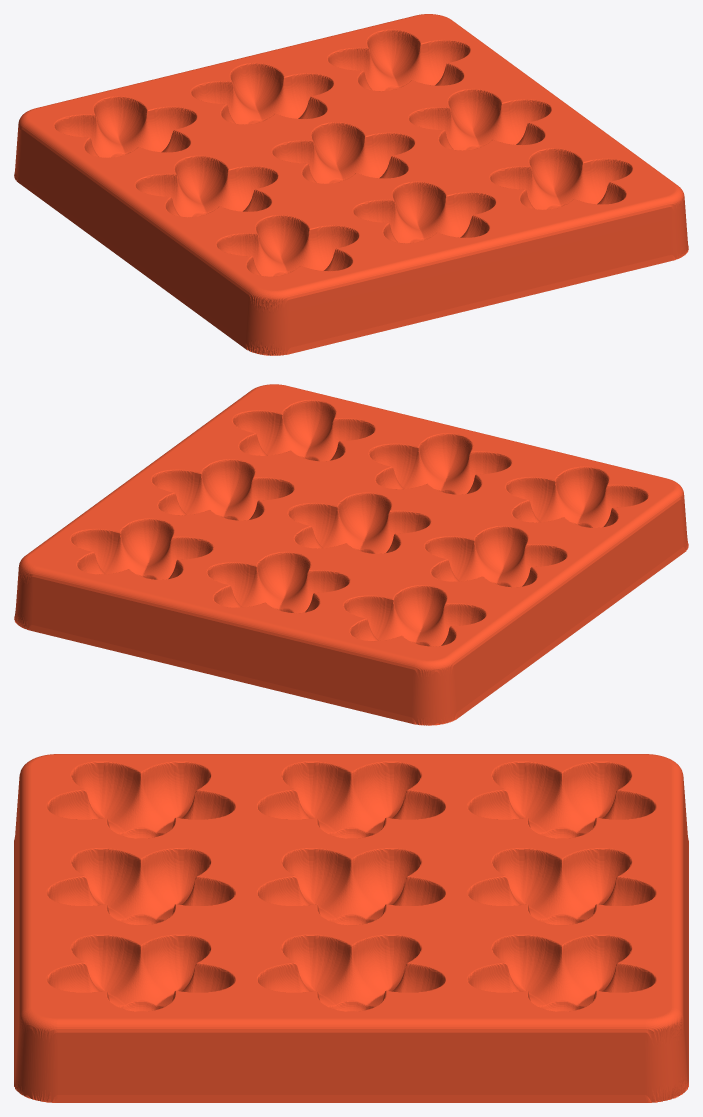
File: mold.glb
The picture shows the model from 3 angles, top to bottom: view 1: azimuth 30°, elevation 25°; view 2: azimuth 150°, elevation 25°; view 3: azimuth 270°, elevation 25°; orthographic projection. The views are drawn at different scales.
Parts seen in each view (by area): view 1: geometry_0; view 2: geometry_0; view 3: geometry_0.
Boxes of the visible parts, x1=… form: geometry_0: x1=14, y1=14, x2=688, y2=355; geometry_0: x1=14, y1=384, x2=688, y2=725; geometry_0: x1=14, y1=754, x2=688, y2=1102.
Bounding box in the file's own units: 0.1352 × 0.0175 × 0.1387.
